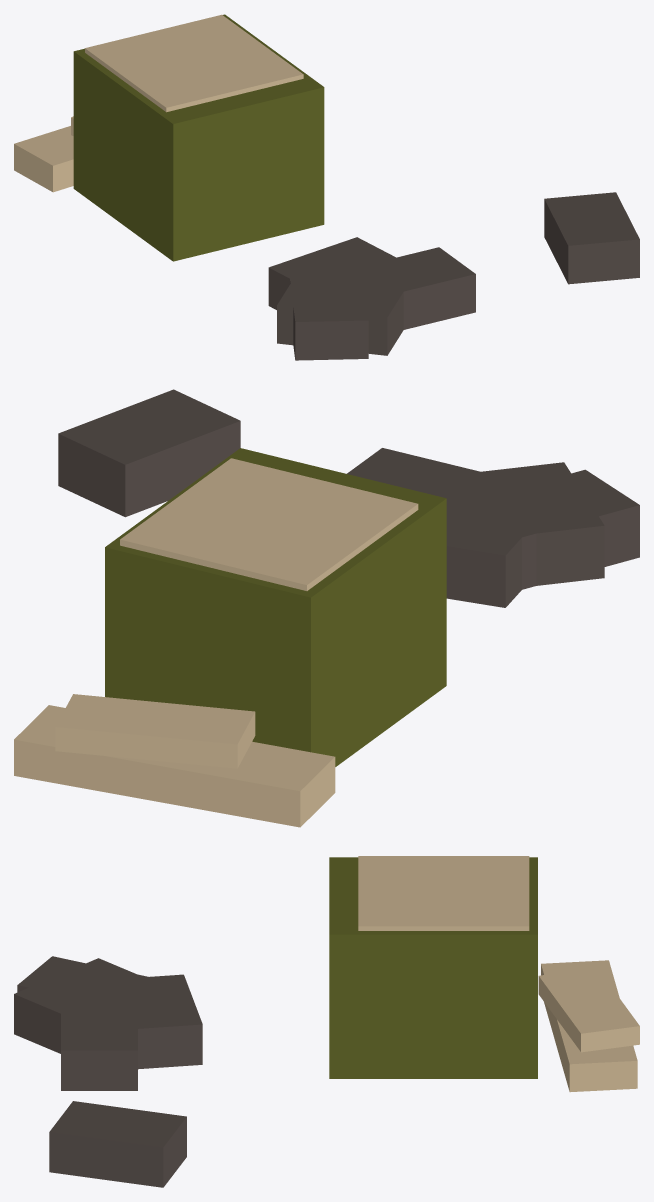
File: SM_HescoCorto1_v1_Geotextil_e2_MuyDanado_LOD1.fbx
3 views of the same model, one above another, from view 1: azimuth 30°, elevation 25°; view 2: azimuth 150°, elevation 25°; view 3: azimuth 270°, elevation 25° (orthographic). The views are drawn at different scales.
Parts seen in each view (by area): view 1: SM_hesco_piezas_v46_LOD1; view 2: SM_hesco_piezas_v46_LOD1; view 3: SM_hesco_piezas_v46_LOD1.
Part boxes in pixels (x1=…): SM_hesco_piezas_v46_LOD1: x1=14, y1=14, x2=639, y2=360; SM_hesco_piezas_v46_LOD1: x1=14, y1=389, x2=639, y2=827; SM_hesco_piezas_v46_LOD1: x1=14, y1=856, x2=639, y2=1187.
Size of the model in its own units: 2.76 by 0.9603 by 3.66.
